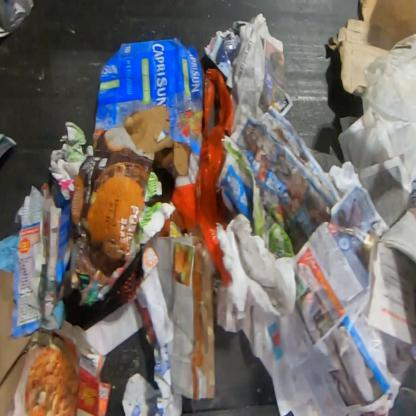cardboard: (53, 128, 154, 305), (94, 38, 206, 177), (9, 316, 114, 415), (325, 0, 415, 96), (0, 268, 29, 416)
soft_plastic: (157, 69, 236, 286), (361, 32, 415, 209)
